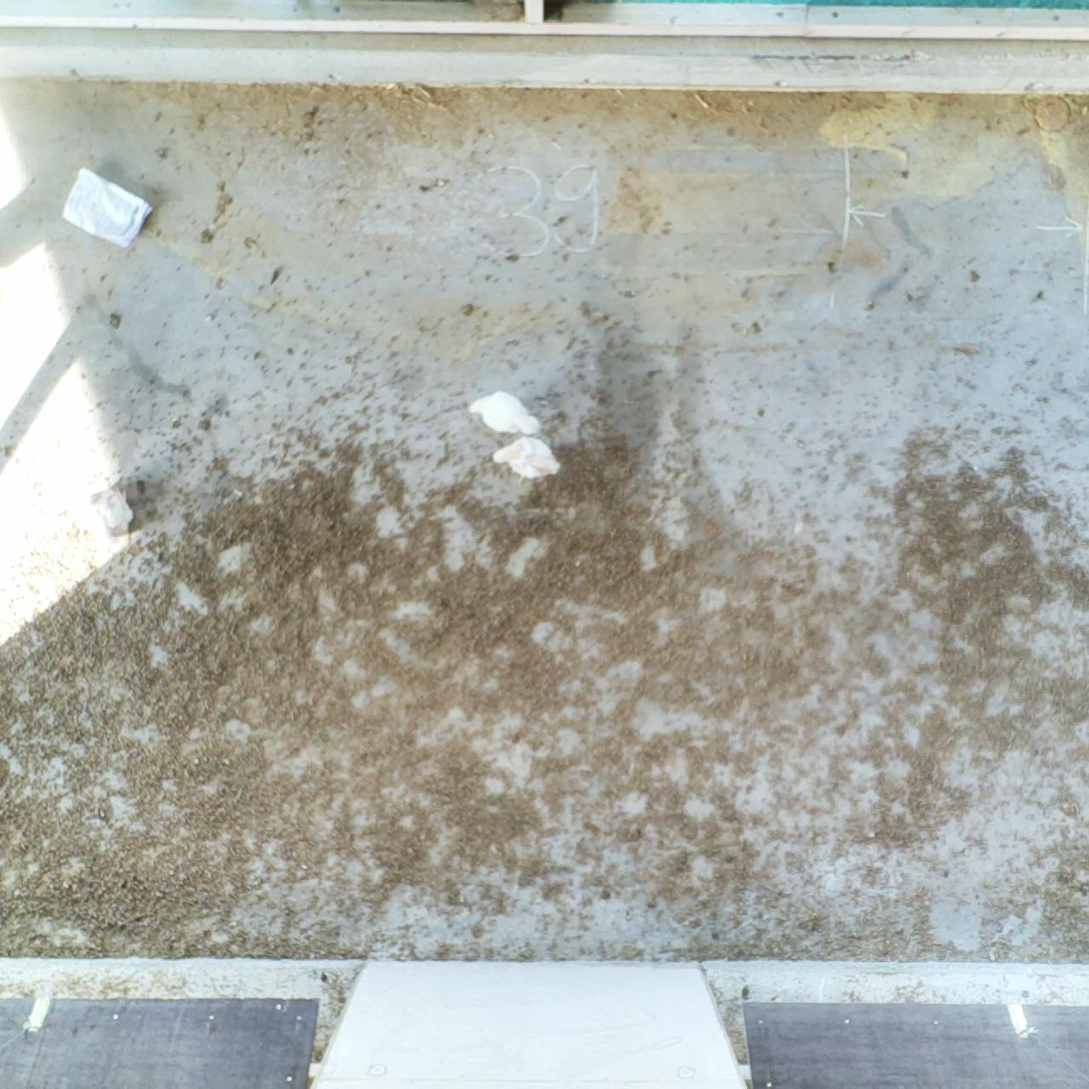chicken: (486, 433, 563, 486), (466, 387, 544, 434)
